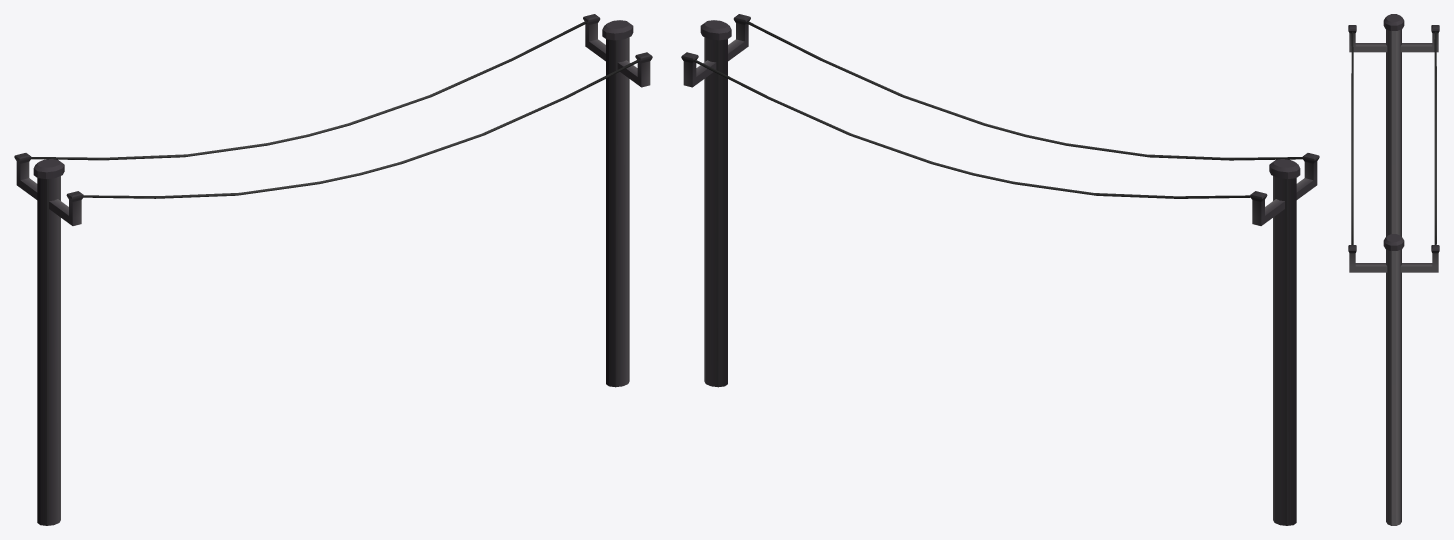
File: SM_Electric_Pole.fbx
3 views of the same model, side by side, from view 1: azimuth 30°, elevation 25°; view 2: azimuth 150°, elevation 25°; view 3: azimuth 270°, elevation 25° (orthographic). The views are drawn at different scales.
Visible parts, largest first — view 1: SM_Electric_Pole; view 2: SM_Electric_Pole; view 3: SM_Electric_Pole.
Part boxes in pixels (left/top/right/bottom): SM_Electric_Pole: left=14, top=14, right=652, bottom=525; SM_Electric_Pole: left=681, top=14, right=1319, bottom=525; SM_Electric_Pole: left=1348, top=14, right=1439, bottom=525.
Bounding box in the file's own units: 1788 × 1027 × 299.
